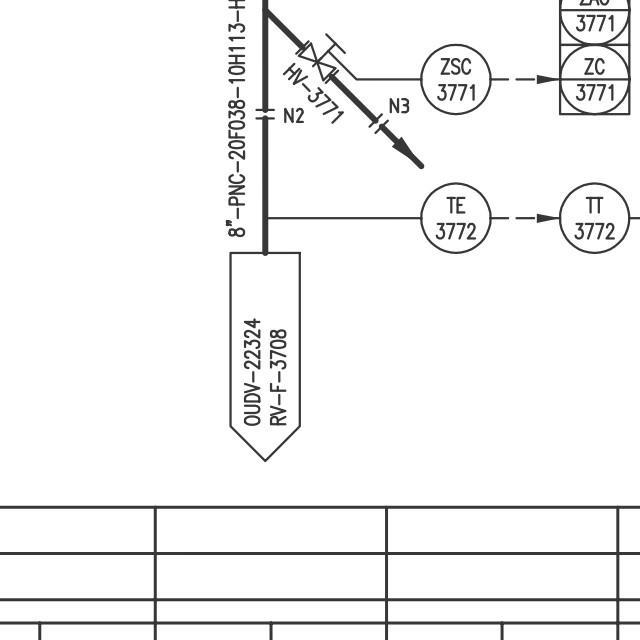HVWT: (293, 27, 345, 82)
